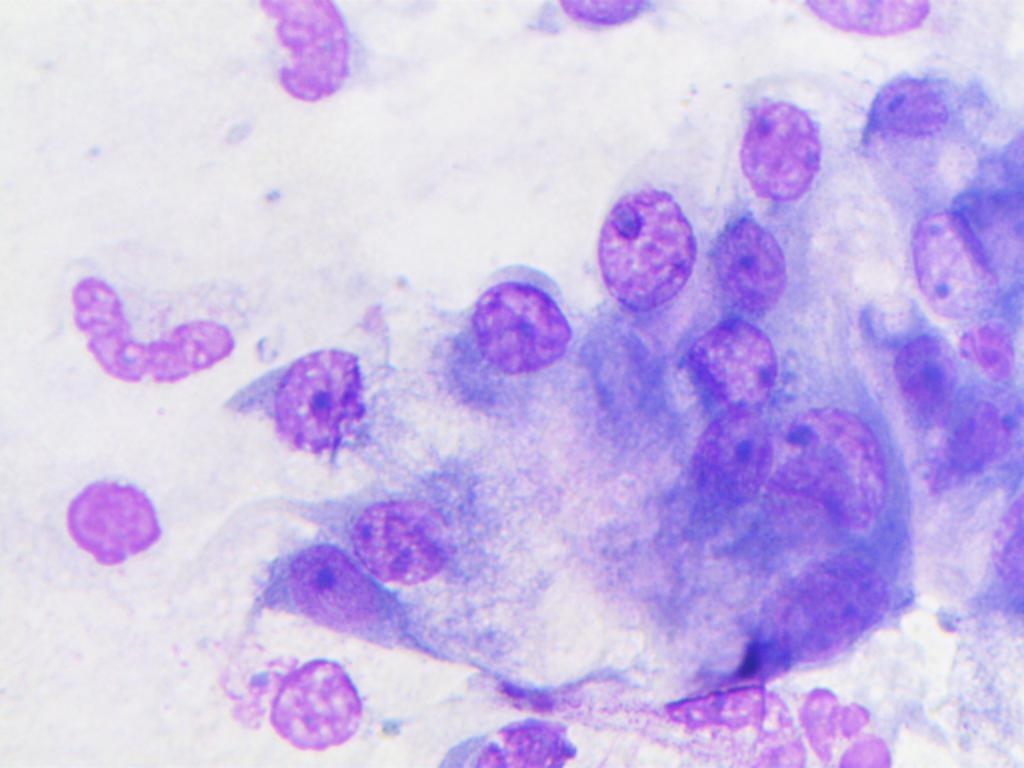artifact: (63, 258, 240, 390), (223, 0, 368, 119), (418, 704, 586, 768)
epithelial: (606, 589, 815, 751), (437, 251, 575, 410), (196, 655, 397, 763), (228, 342, 375, 487), (579, 167, 703, 322), (884, 199, 1007, 344), (777, 394, 891, 532), (354, 493, 511, 587), (716, 89, 837, 210), (852, 58, 981, 171), (42, 466, 163, 583), (696, 207, 792, 322), (660, 408, 771, 504), (672, 320, 779, 415), (276, 544, 367, 644), (770, 0, 969, 38)
neutrophil: (782, 663, 922, 768)
